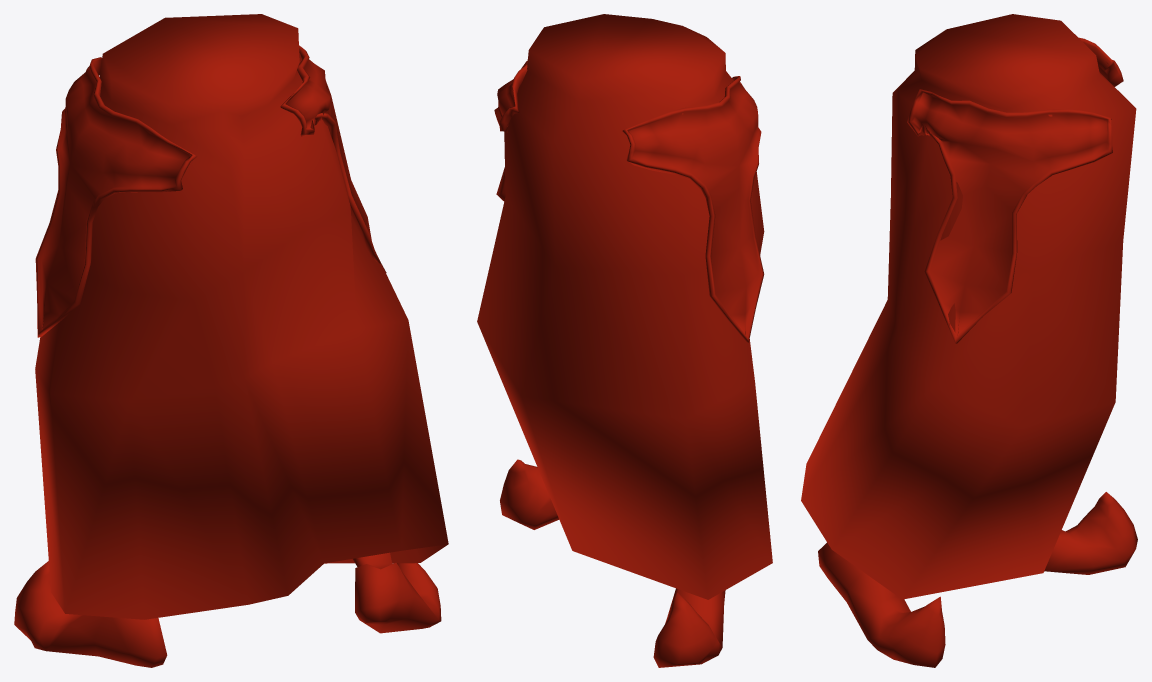
The model's file is bot_000037.obj.
3 renders of one model, left to right at view 1: azimuth 30°, elevation 25°; view 2: azimuth 150°, elevation 25°; view 3: azimuth 270°, elevation 25°, orthographic. The views are drawn at different scales.
Parts seen in each view (by area): view 1: LowPoly_Warlock.004_Plane.004; view 2: LowPoly_Warlock.004_Plane.004; view 3: LowPoly_Warlock.004_Plane.004.
Boxes of the visible parts, x1=… form: LowPoly_Warlock.004_Plane.004: x1=14, y1=14, x2=448, y2=667; LowPoly_Warlock.004_Plane.004: x1=477, y1=14, x2=772, y2=667; LowPoly_Warlock.004_Plane.004: x1=801, y1=14, x2=1137, y2=667.
Bounding box in the file's own units: 0.6358 × 1.11 × 0.6045.
